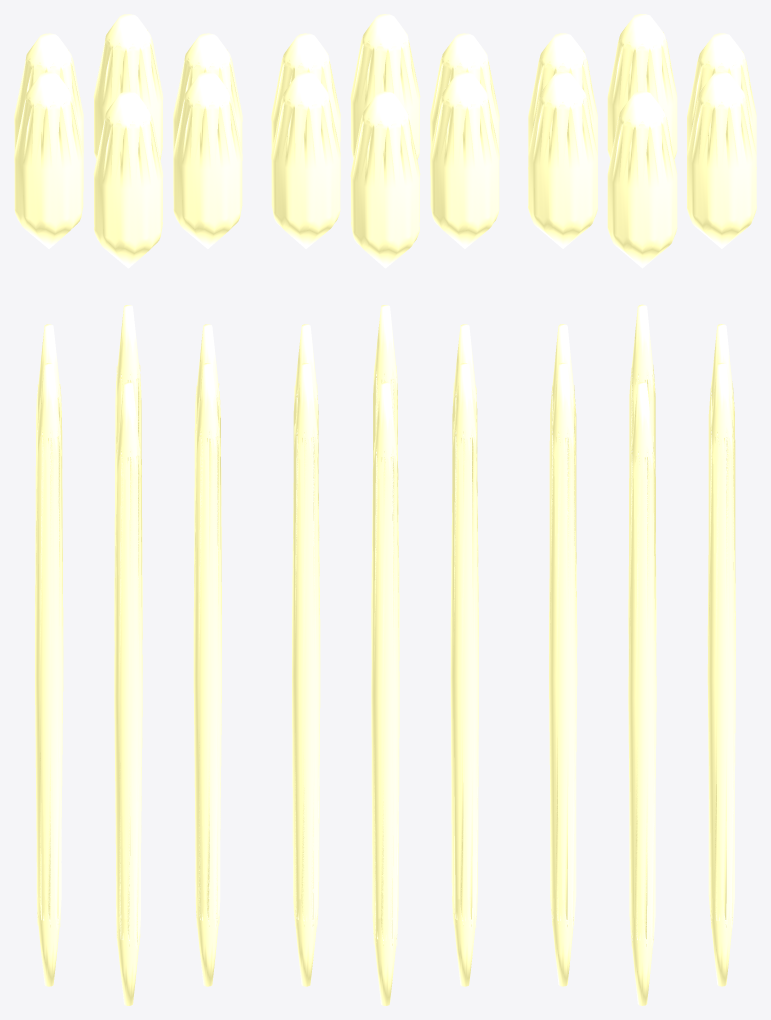
File: plant_wheat_r2_v3.glb
3 views of the same model, side by side, from view 1: azimuth 30°, elevation 25°; view 2: azimuth 150°, elevation 25°; view 3: azimuth 270°, elevation 25° (orthographic).
Visible parts, largest first — view 1: st_5, st_3, st_4, hd_5, hd_3, hd_4, hd_1, hd_0, hd_2, st_1, st_2, st_0; view 2: st_1, st_3, st_2, hd_1, hd_3, hd_2, hd_5, hd_4, hd_0, st_5, st_4, st_0; view 3: st_1, st_5, st_0, hd_0, hd_1, hd_5, hd_3, hd_2, hd_4, st_3, st_4, st_2.
Part boxes in pixels (left/top/right/bottom): st_5: left=193, top=363, right=221, bottom=986; st_3: left=35, top=363, right=63, bottom=986; st_4: left=114, top=382, right=142, bottom=1005; hd_5: left=173, top=72, right=242, bottom=248; hd_3: left=14, top=72, right=83, bottom=248; hd_4: left=93, top=91, right=163, bottom=268; hd_1: left=93, top=14, right=163, bottom=159; hd_0: left=173, top=33, right=242, bottom=151; hd_2: left=14, top=33, right=83, bottom=152; st_1: left=114, top=305, right=142, bottom=640; st_2: left=35, top=324, right=63, bottom=860; st_0: left=193, top=324, right=221, bottom=857; st_1: left=292, top=363, right=320, bottom=986; st_3: left=450, top=363, right=478, bottom=986; st_2: left=371, top=382, right=399, bottom=1005; hd_1: left=271, top=72, right=340, bottom=248; hd_3: left=430, top=72, right=499, bottom=248; hd_2: left=350, top=91, right=420, bottom=268; hd_5: left=350, top=14, right=420, bottom=159; hd_4: left=430, top=33, right=499, bottom=151; hd_0: left=271, top=33, right=340, bottom=151; st_5: left=371, top=305, right=399, bottom=660; st_4: left=450, top=324, right=478, bottom=656; st_0: left=292, top=324, right=320, bottom=657; st_1: left=707, top=363, right=735, bottom=986; st_5: left=549, top=363, right=577, bottom=986; st_0: left=628, top=382, right=656, bottom=1005; hd_0: left=607, top=91, right=677, bottom=268; hd_1: left=687, top=72, right=756, bottom=248; hd_5: left=528, top=72, right=597, bottom=248; hd_3: left=607, top=14, right=677, bottom=158; hd_2: left=687, top=33, right=756, bottom=169; hd_4: left=528, top=33, right=597, bottom=169; st_3: left=628, top=304, right=656, bottom=643; st_4: left=549, top=324, right=577, bottom=650; st_2: left=707, top=324, right=735, bottom=649.
Size of the model in its own units: 0.2209 by 0.8748 by 0.1995.
